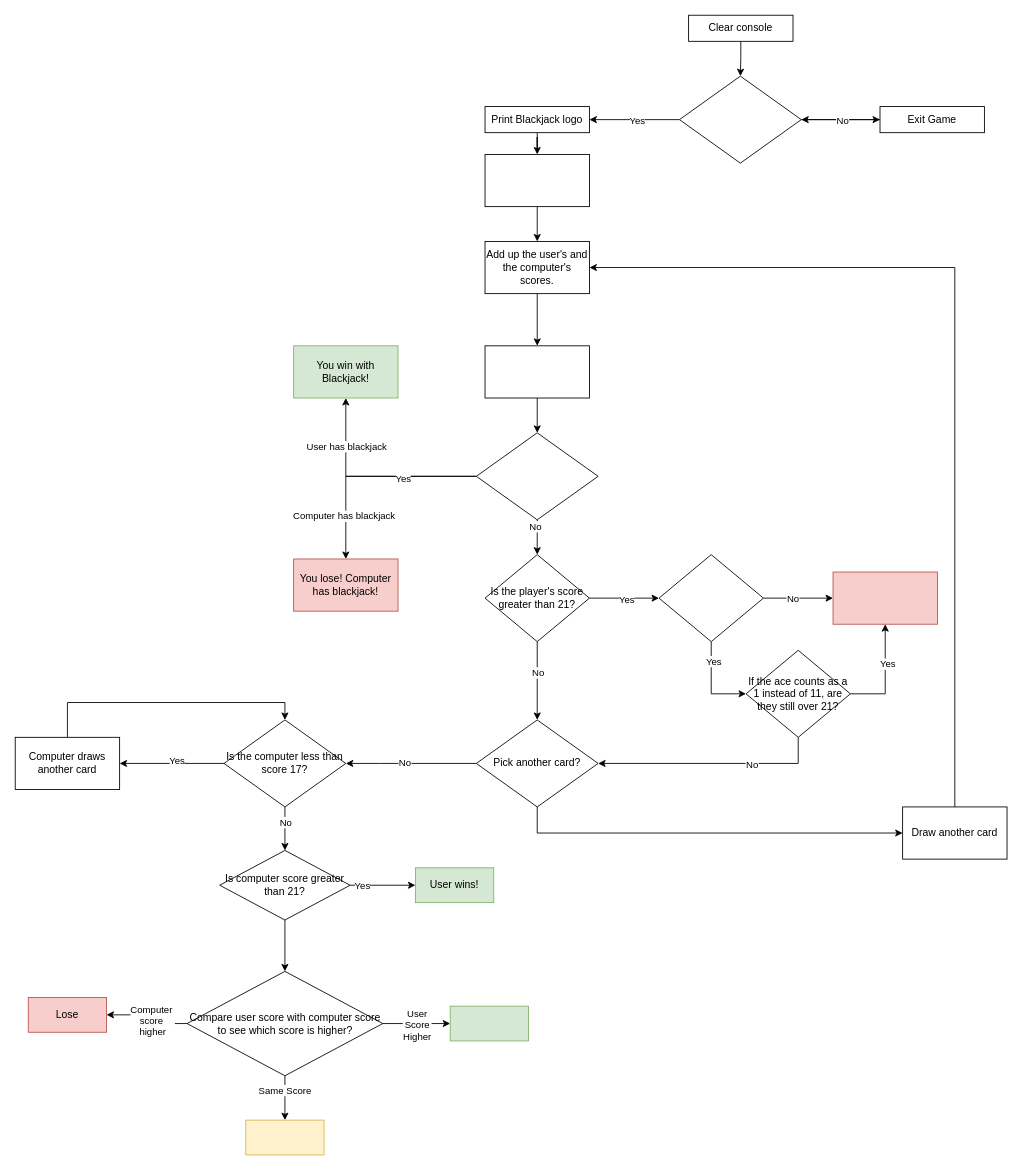
This 1022x1170 diagram has some shape labels left out. Here are the shapes that lost their labels. From the top down, the centre of each, then its label:
pixel 740 119: Do you want to play a game of blackjack?
pixel 536 180: Randomly generate player and computer's cards from the list of cards
pixel 536 371: Print player cards and score. Print Computer first card.
pixel 536 476: Does the user or computer have blackjack? (Ace + 10)
pixel 710 598: Does the player have an ace?
pixel 884 597: You lose! Computer wins.
pixel 489 1023: Win
pixel 284 1137: Draw
